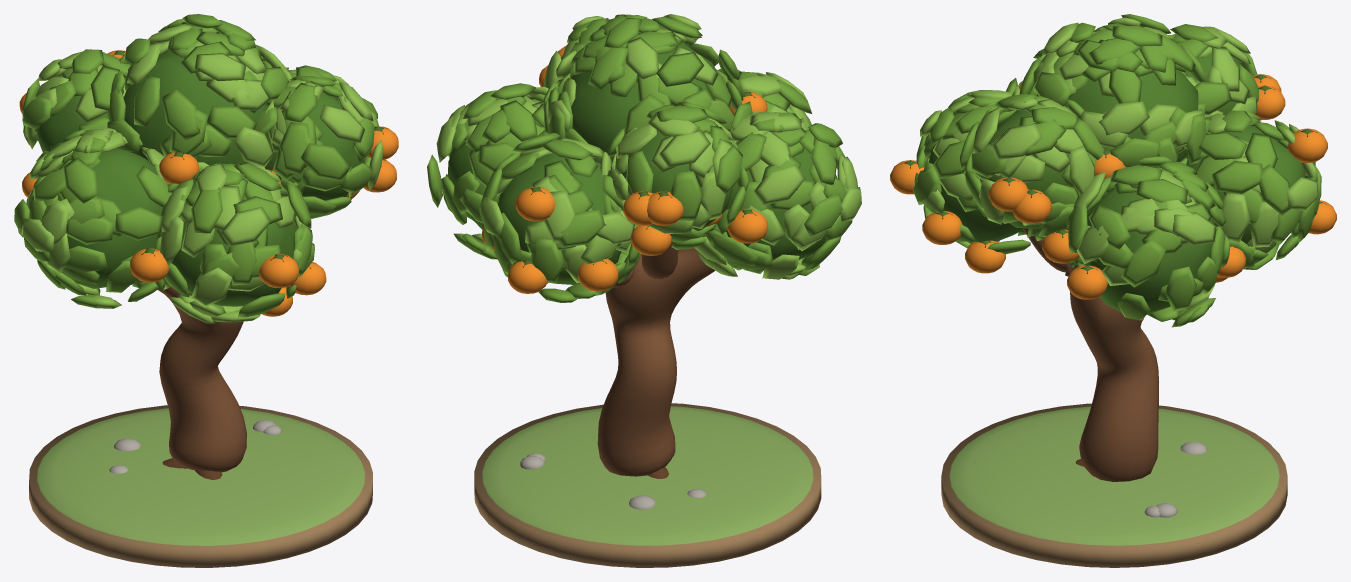
File: persimmon.glb
3 renders of one model, left to right at view 1: azimuth 30°, elevation 25°; view 2: azimuth 150°, elevation 25°; view 3: azimuth 270°, elevation 25°, orthographic.
Visible parts, largest first — view 1: Cylinder; view 2: Cylinder; view 3: Cylinder.
Boxes of the visible parts, x1,y1,x2,y2 form: Cylinder: [14, 14, 398, 567]; Cylinder: [427, 14, 861, 567]; Cylinder: [890, 14, 1336, 567].
Bounding box in the file's own units: 2.51 × 3.02 × 2.58.
